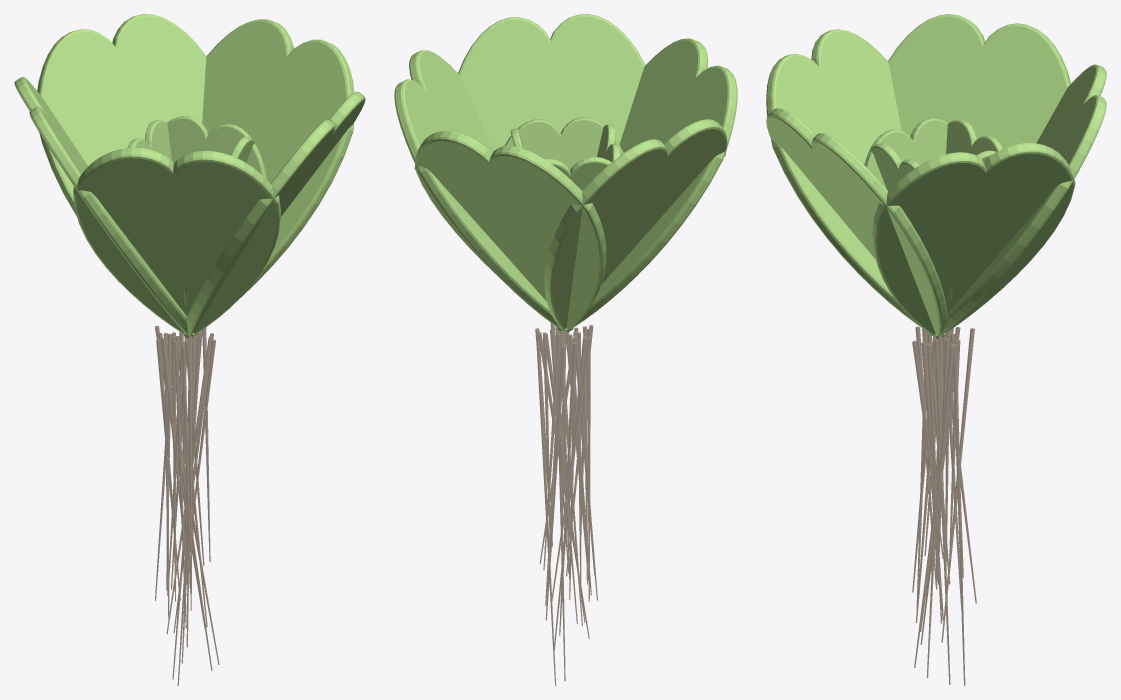
File: plant.glb
3 views of the same model, side by side, from view 1: azimuth 30°, elevation 25°; view 2: azimuth 150°, elevation 25°; view 3: azimuth 270°, elevation 25° (orthographic). The views are drawn at different scales.
Parts seen in each view (by area): view 1: WaterCabbagePlant; view 2: WaterCabbagePlant; view 3: WaterCabbagePlant.
Part boxes in pixels (<box>): WaterCabbagePlant: <box>14,14,365,685</box>; WaterCabbagePlant: <box>394,14,737,685</box>; WaterCabbagePlant: <box>766,14,1106,685</box>.
Bounding box in the file's own units: 5.25 × 9.98 × 5.11.
